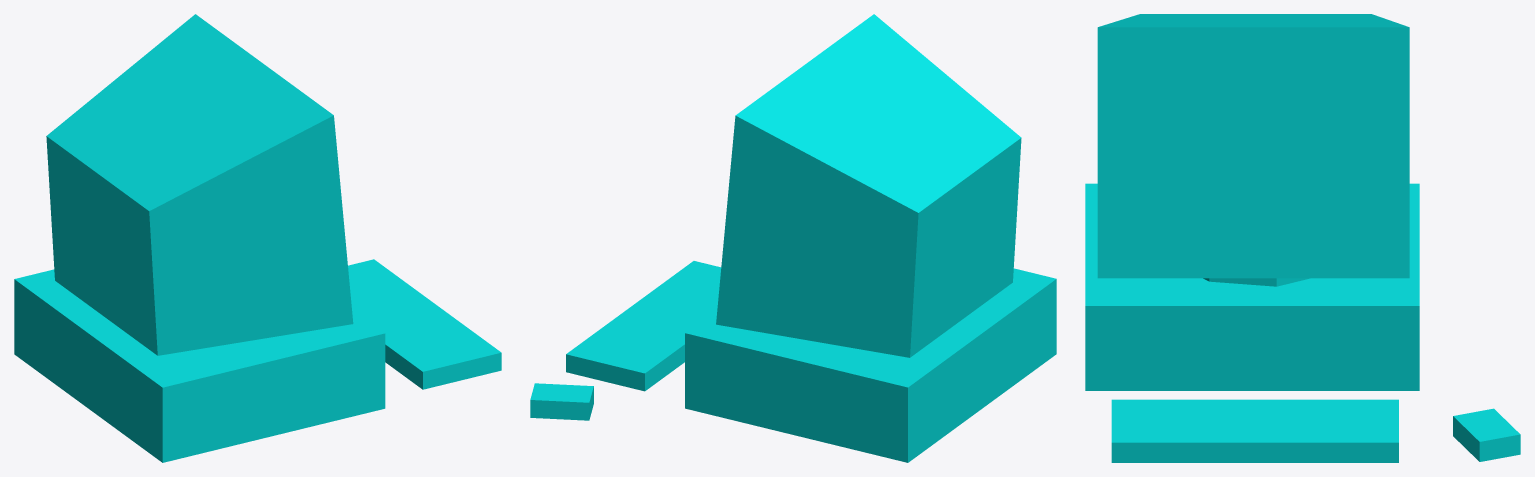
Rendered from pc_set.fbx.
The picture shows the model from 3 angles, left to right: view 1: azimuth 30°, elevation 25°; view 2: azimuth 150°, elevation 25°; view 3: azimuth 270°, elevation 25°; orthographic projection. The views are drawn at different scales.
Visible parts, largest first — view 1: computer; view 2: computer; view 3: computer.
Part boxes in pixels (x1,y1,x2,y2): computer: [14, 14, 501, 462]; computer: [530, 14, 1056, 462]; computer: [1085, 14, 1520, 462].
Size of the model in its own units: 4.09 by 3.39 by 3.91.
